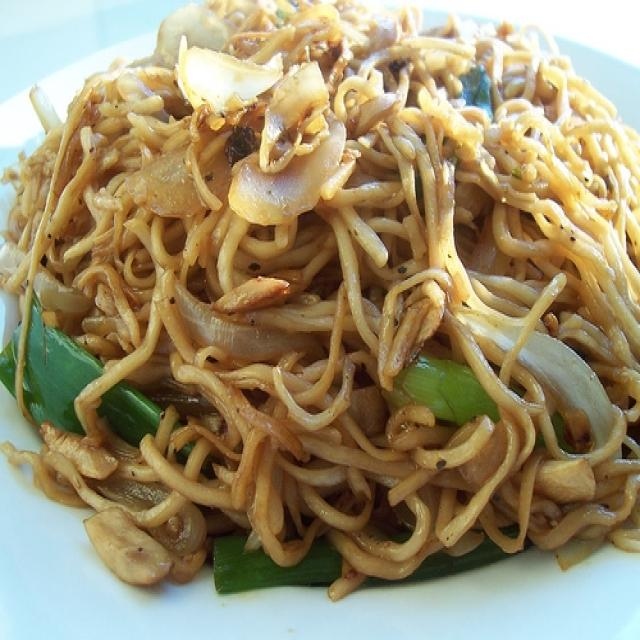面条主食: (8, 15, 631, 594)
